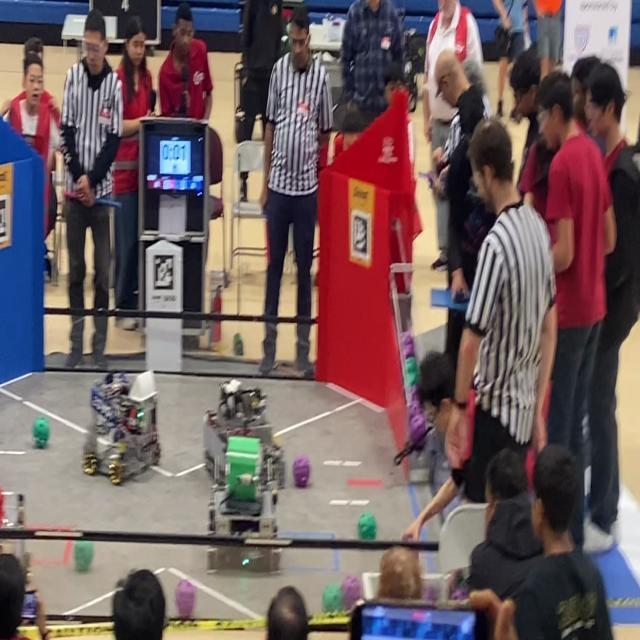artifact_green: (73, 540, 94, 572), (322, 584, 343, 613), (32, 417, 50, 448), (358, 512, 377, 540), (405, 357, 418, 387), (401, 331, 415, 358), (451, 587, 468, 601), (233, 334, 243, 356), (0, 488, 3, 522)
artifact_purple: (175, 580, 195, 619), (341, 575, 362, 610), (410, 412, 426, 450), (293, 455, 310, 487), (402, 332, 414, 358), (424, 588, 437, 606), (451, 588, 468, 601), (411, 386, 421, 407), (410, 398, 422, 415)
